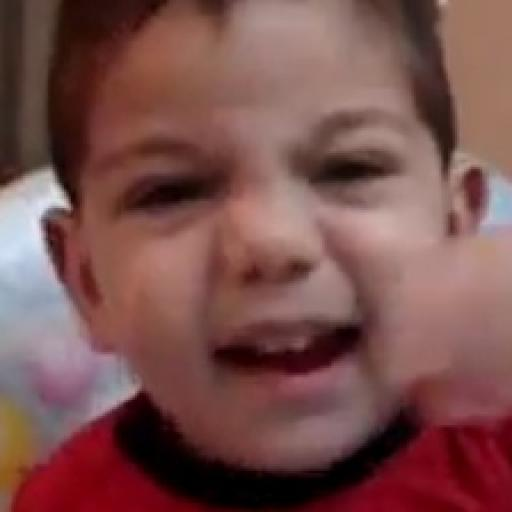Autism: (44, 42, 432, 460)
